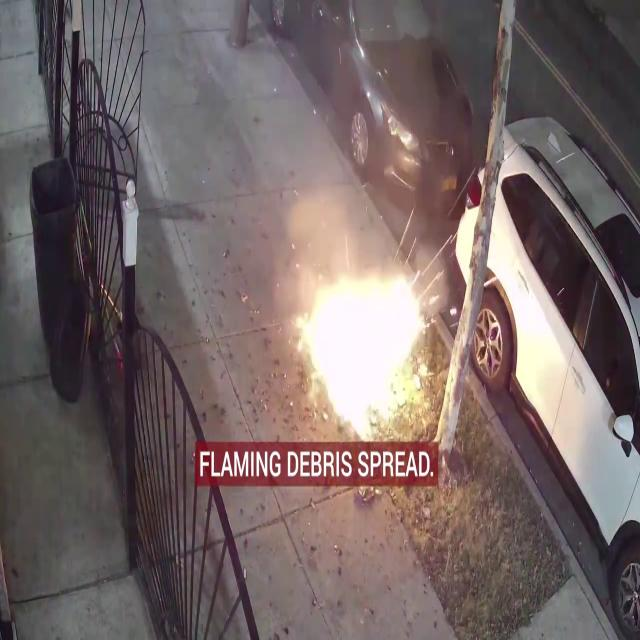Fire: (295, 245, 439, 457)
